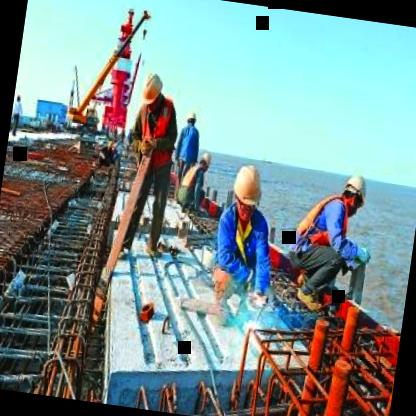helmet: (226, 160, 267, 226), (138, 67, 167, 117), (337, 168, 367, 214), (196, 145, 212, 175), (184, 106, 199, 130)
